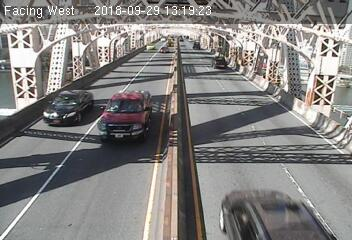car: (214, 188, 338, 240), (99, 91, 154, 140), (39, 88, 95, 124), (210, 55, 231, 72)
